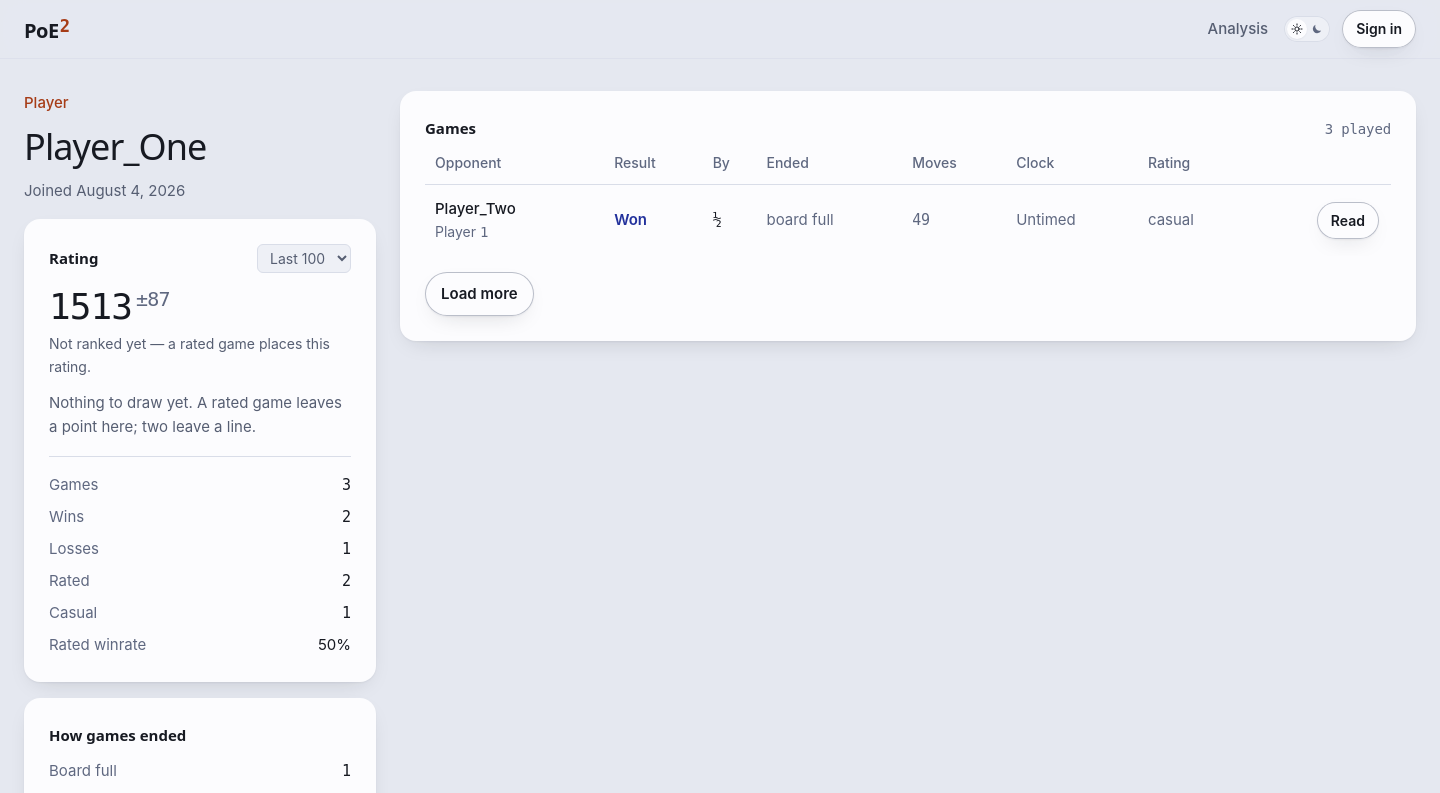
Test: the games on a public profile › pages on demand, passing the cursor the server issued back
This screenshot has width=1440, height=793.
Step 1. Click the button "Load more" → coordinates (479, 294), box left=425, top=272, right=534, bottom=316
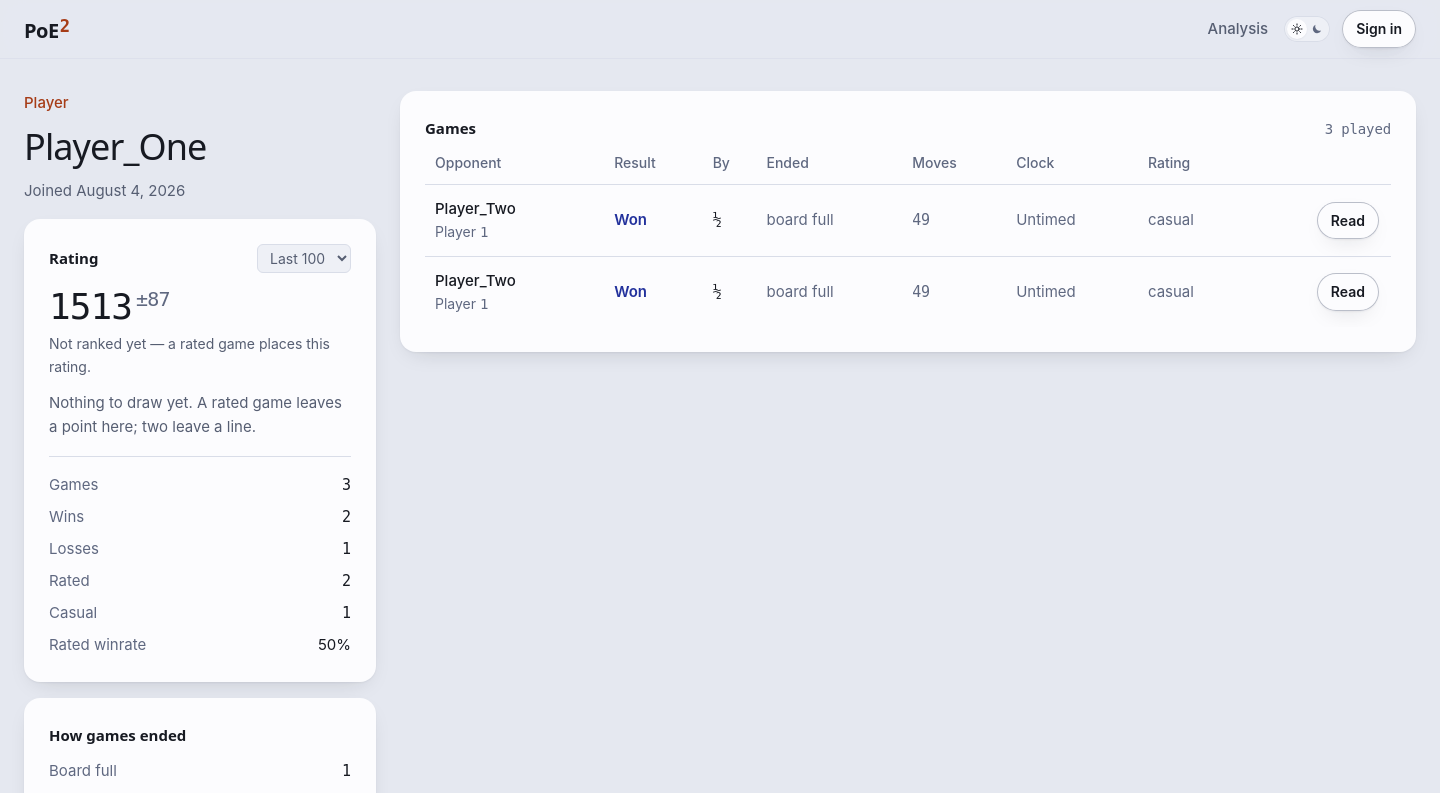
Now the button "Load more" is gone
